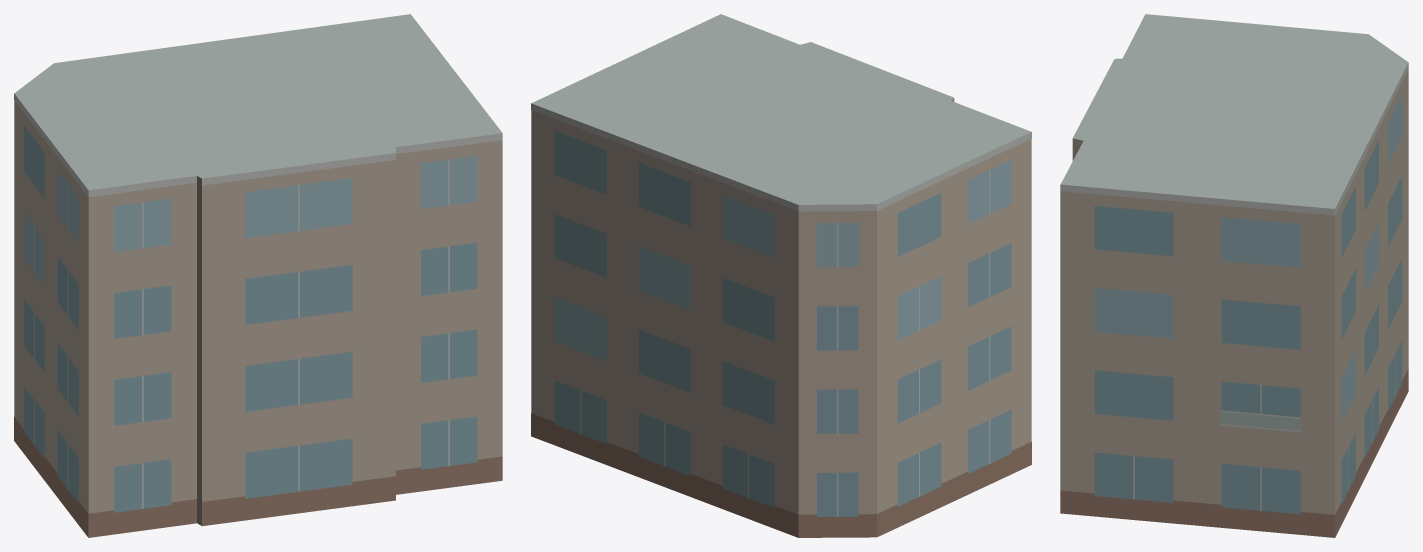
Rendered from survey-upis-32720272.glb.
3 views of the same model, side by side, from view 1: azimuth 30°, elevation 25°; view 2: azimuth 150°, elevation 25°; view 3: azimuth 270°, elevation 25° (orthographic). The views are drawn at different scales.
Visible parts, largest first — view 1: survey-upis-32720272.tmp; view 2: survey-upis-32720272.tmp; view 3: survey-upis-32720272.tmp.
Boxes of the visible parts, bbox=[...] form: survey-upis-32720272.tmp: bbox=[14, 14, 502, 537]; survey-upis-32720272.tmp: bbox=[531, 14, 1031, 537]; survey-upis-32720272.tmp: bbox=[1060, 14, 1408, 537].
Bounding box in the file's own units: 15.53 × 12.2 × 11.71.
